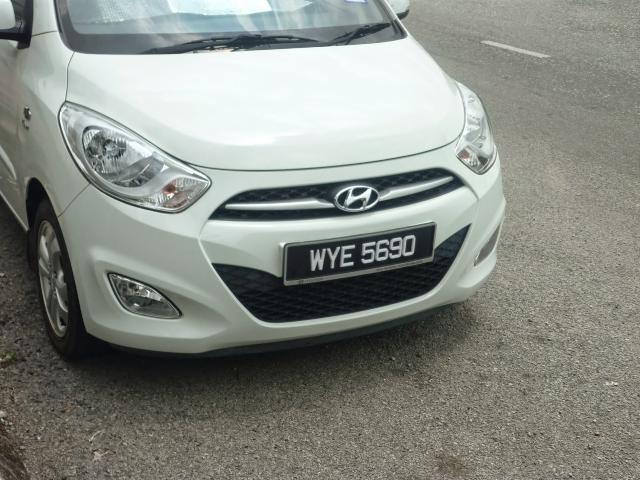License_Plate: (297, 225, 432, 277)
car: (1, 1, 513, 373)
